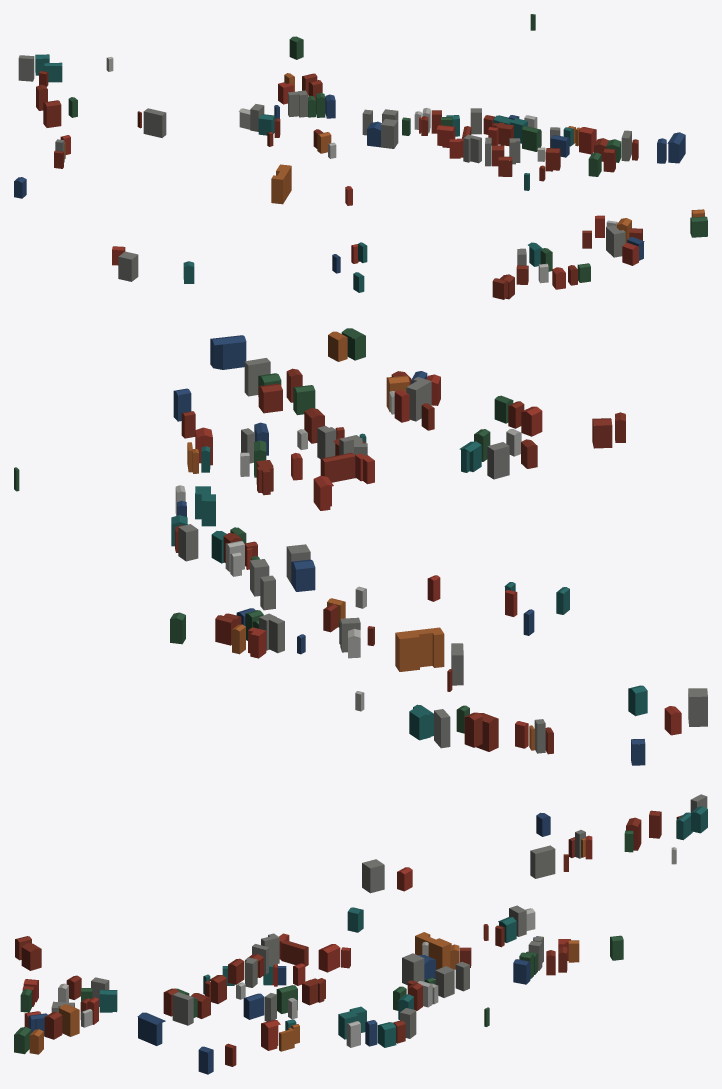
File: near-16-54712-29734.09a52918.glb
3 views of the same model, one above another, from view 1: azimuth 30°, elevation 25°; view 2: azimuth 150°, elevation 25°; view 3: azimuth 270°, elevation 25° (orthographic). The views are drawn at different scales.
Bounding box in the file's own units: 549 × 132 × 590.
